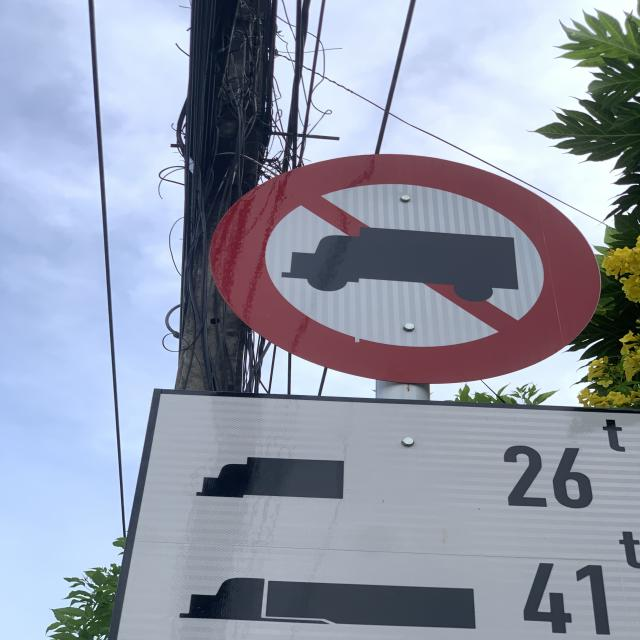Cam_Xe_Tai: (208, 151, 604, 384)
